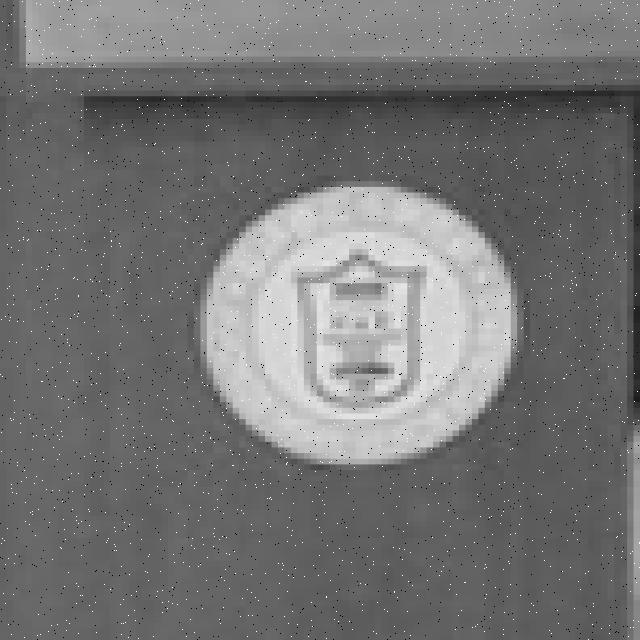logo: (183, 168, 540, 482)
